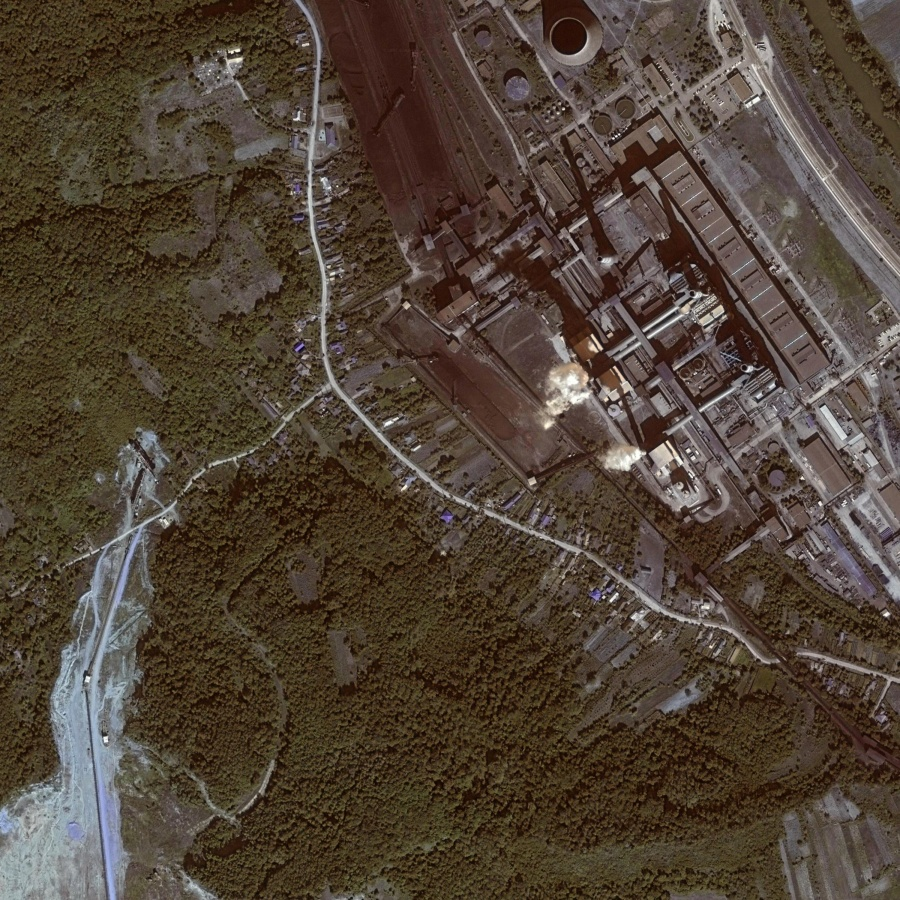PowerPlant: (429, 271, 644, 500)
